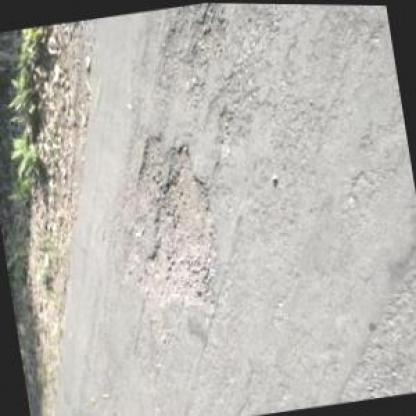pothole: (102, 121, 235, 350)
